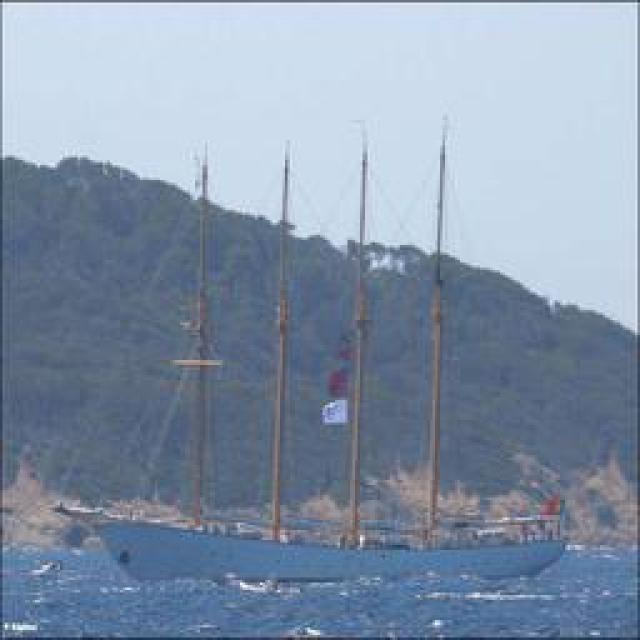Ship: (75, 505, 565, 588)
